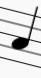note: (10, 2, 38, 70)
